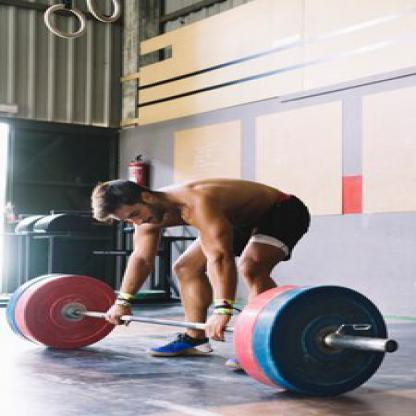barbell: (5, 271, 400, 401)
